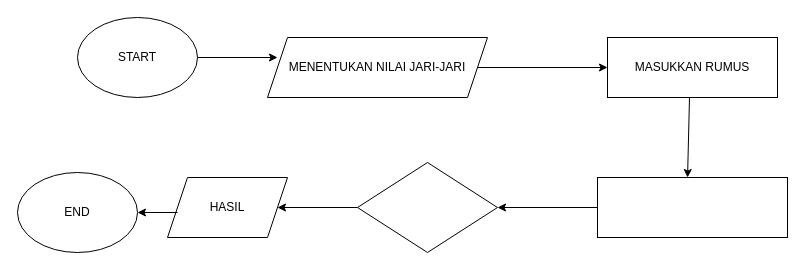
Image size: 805x270. Some labels were removed from this diagram. Each missing label, with the box of its shape:
MASUKKAN NILAI KEDALAM RUMUS: (596, 176, 788, 238)
MELAKUKAN PERHITUNGAN: (356, 162, 498, 252)
